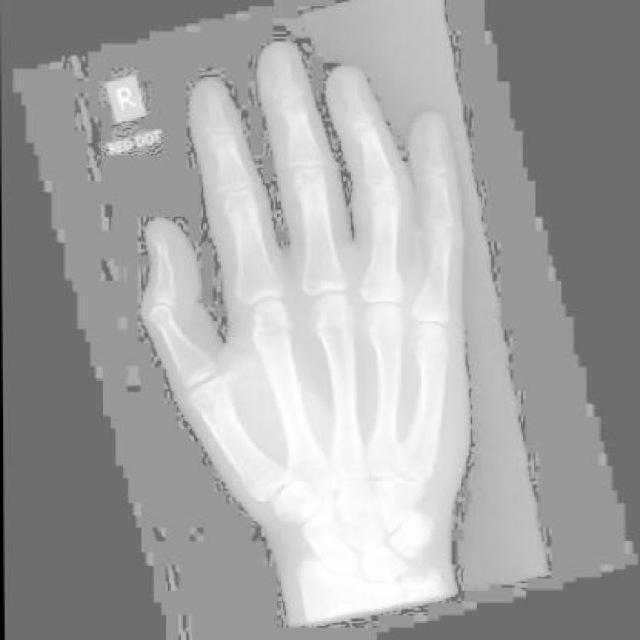Fracture: (353, 263, 404, 306)
